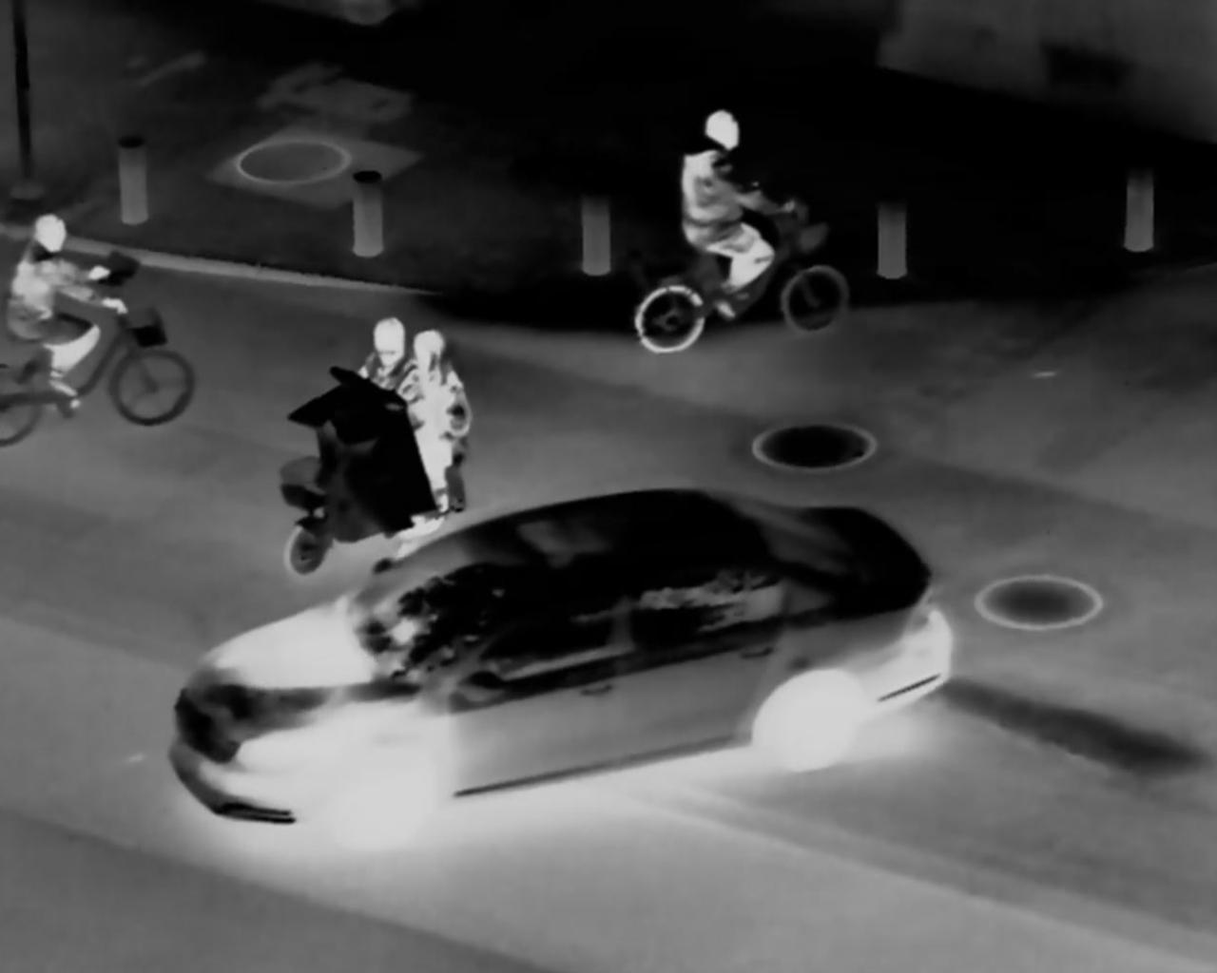person: (671, 106, 785, 346), (10, 216, 119, 407), (405, 330, 474, 507), (350, 305, 406, 390)
